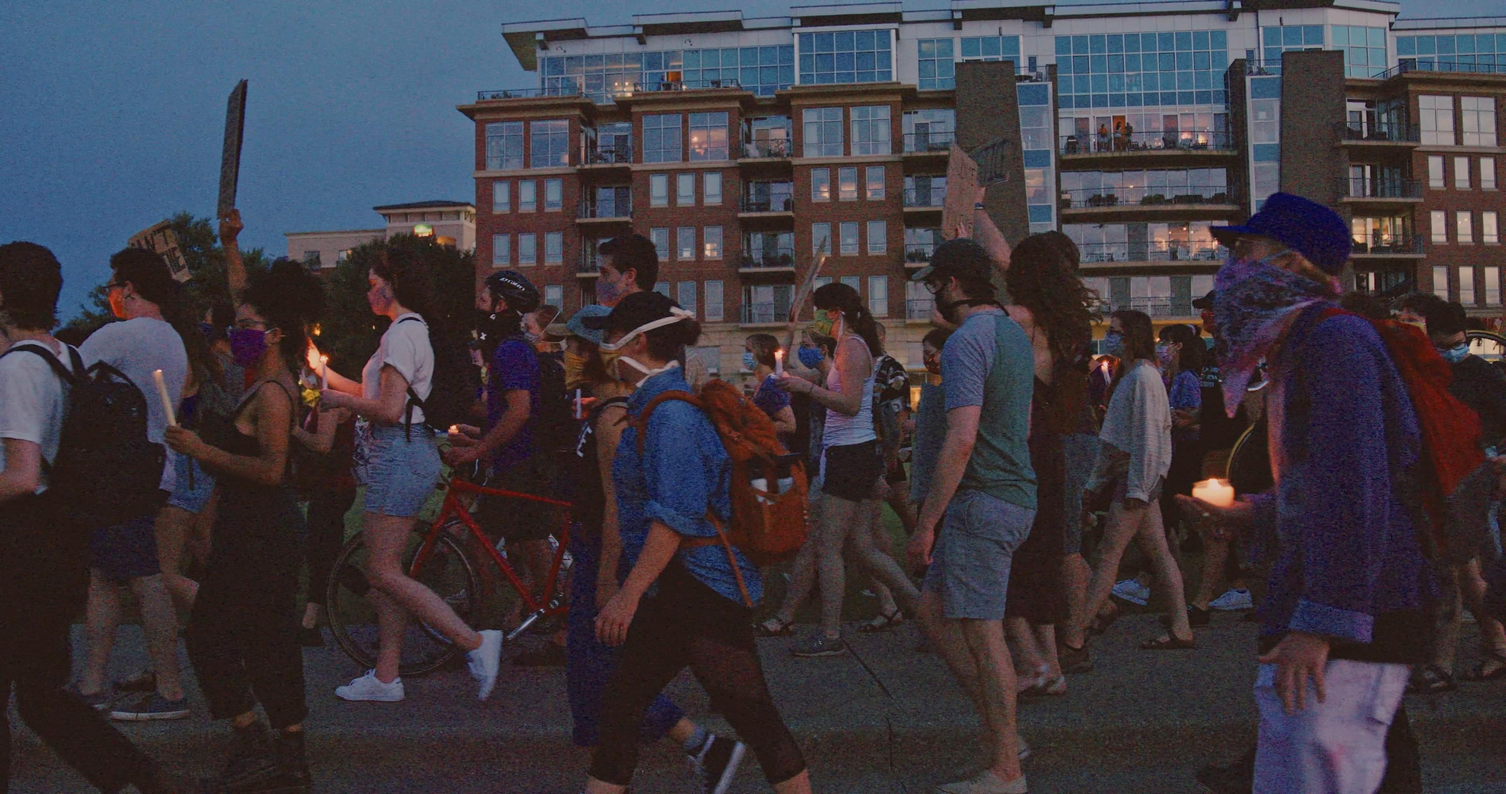helmet: (476, 270, 540, 333)
no-helmet: (1207, 192, 1355, 360), (580, 290, 702, 384), (1006, 233, 1090, 322), (911, 237, 994, 325), (224, 284, 304, 371), (546, 304, 613, 392), (0, 242, 64, 334), (101, 246, 171, 321), (365, 245, 435, 318), (596, 233, 659, 308), (811, 280, 876, 340), (1424, 301, 1471, 366), (1105, 309, 1155, 362), (1155, 322, 1203, 367), (521, 303, 567, 346), (1399, 293, 1445, 335), (921, 329, 956, 375), (744, 334, 780, 373)
